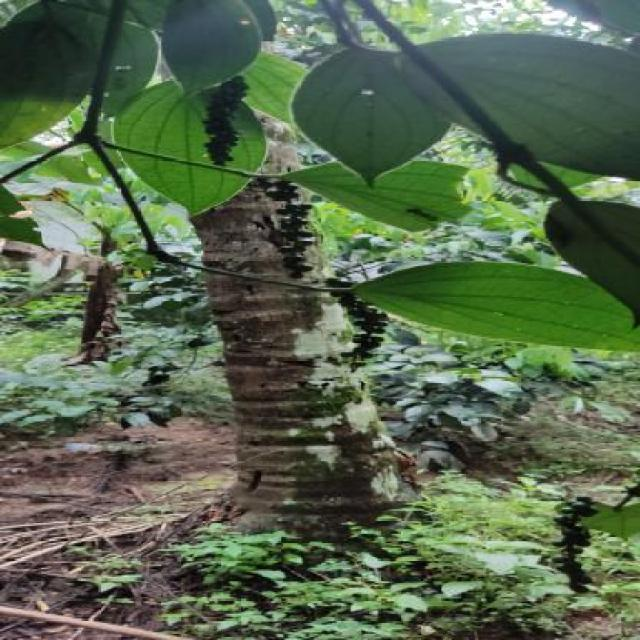UNRIPE: (247, 180, 315, 278), (319, 278, 390, 365), (549, 496, 593, 593), (201, 77, 247, 163)
